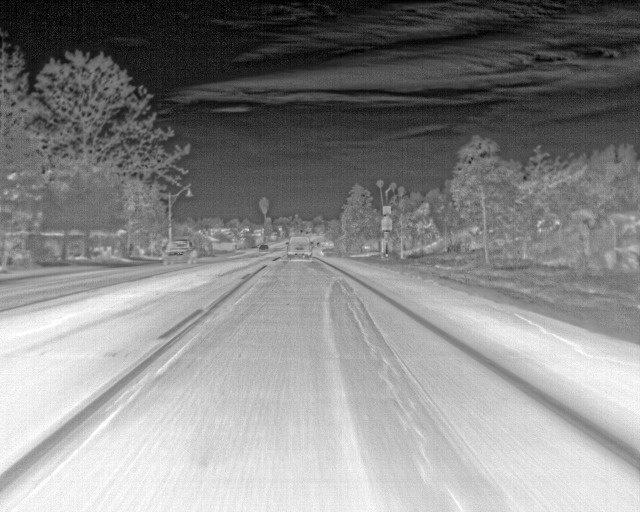vehicle: (162, 238, 197, 266), (287, 235, 313, 258)
